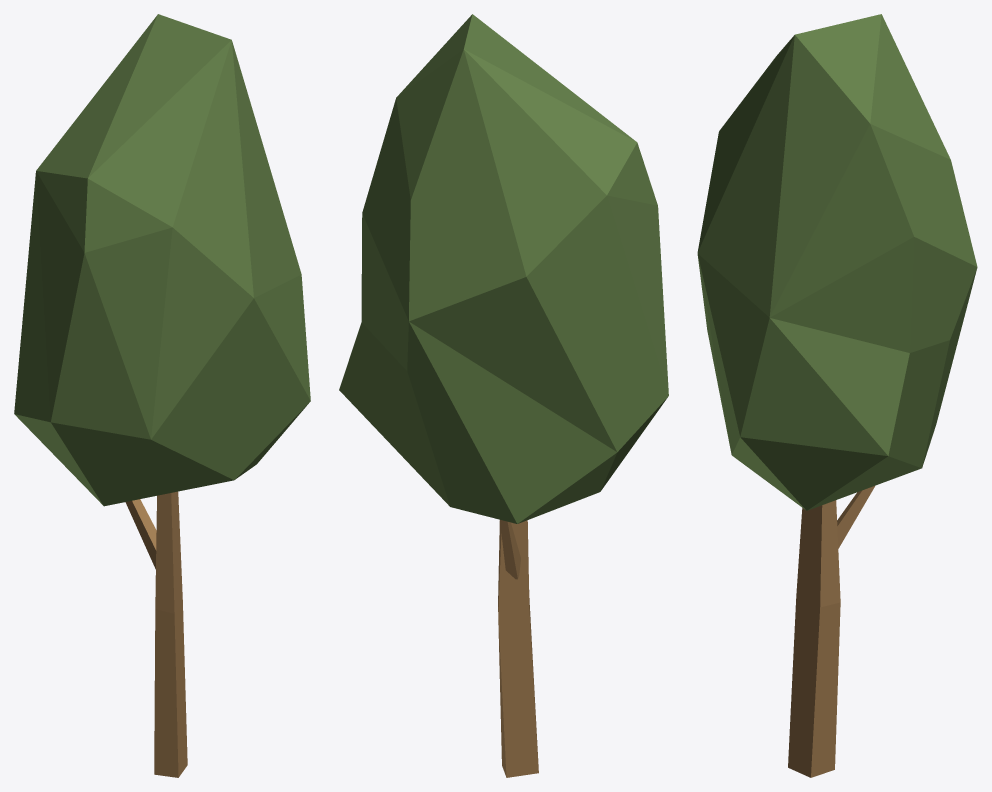
Rendered from tree01.fbx.
3 views of the same model, side by side, from view 1: azimuth 30°, elevation 25°; view 2: azimuth 150°, elevation 25°; view 3: azimuth 270°, elevation 25° (orthographic). The views are drawn at different scales.
Visible parts, largest first — view 1: tree_01; view 2: tree_01; view 3: tree_01.
Boxes of the visible parts, box(x1,y1,x2,y2) form: tree_01: box(14, 14, 310, 777); tree_01: box(339, 14, 668, 777); tree_01: box(697, 14, 977, 777).
Size of the model in its own units: 1.98 by 1.66 by 5.02.
